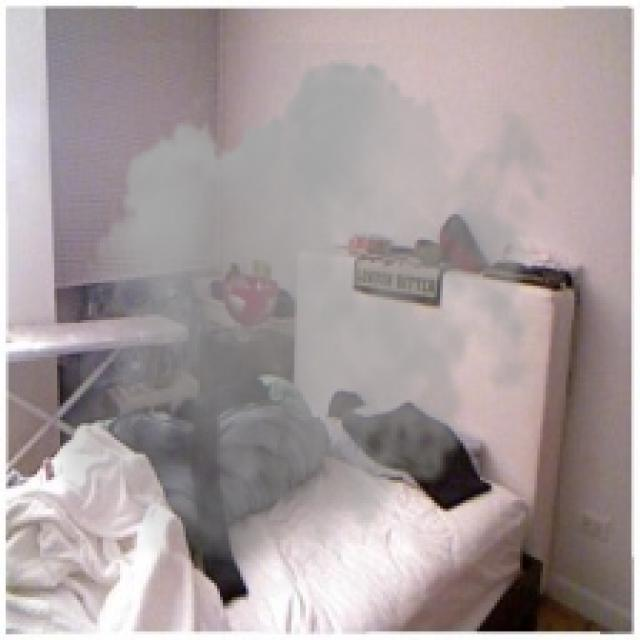Smoke: (40, 42, 569, 608)
